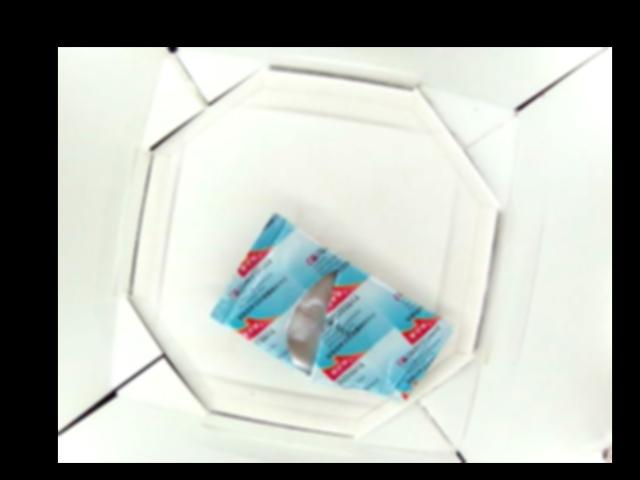Medicine: (208, 211, 446, 400)
